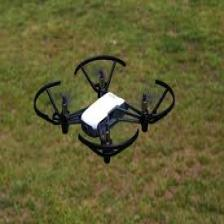drone: (34, 55, 176, 159)
